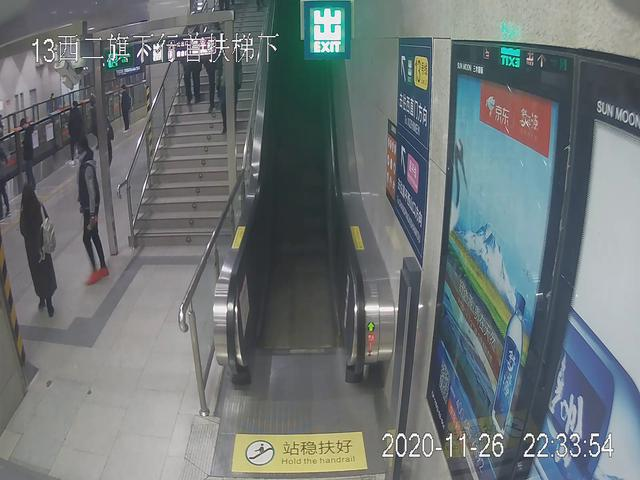person: (74, 138, 110, 284), (19, 181, 58, 315), (15, 115, 42, 193), (117, 82, 132, 137)
